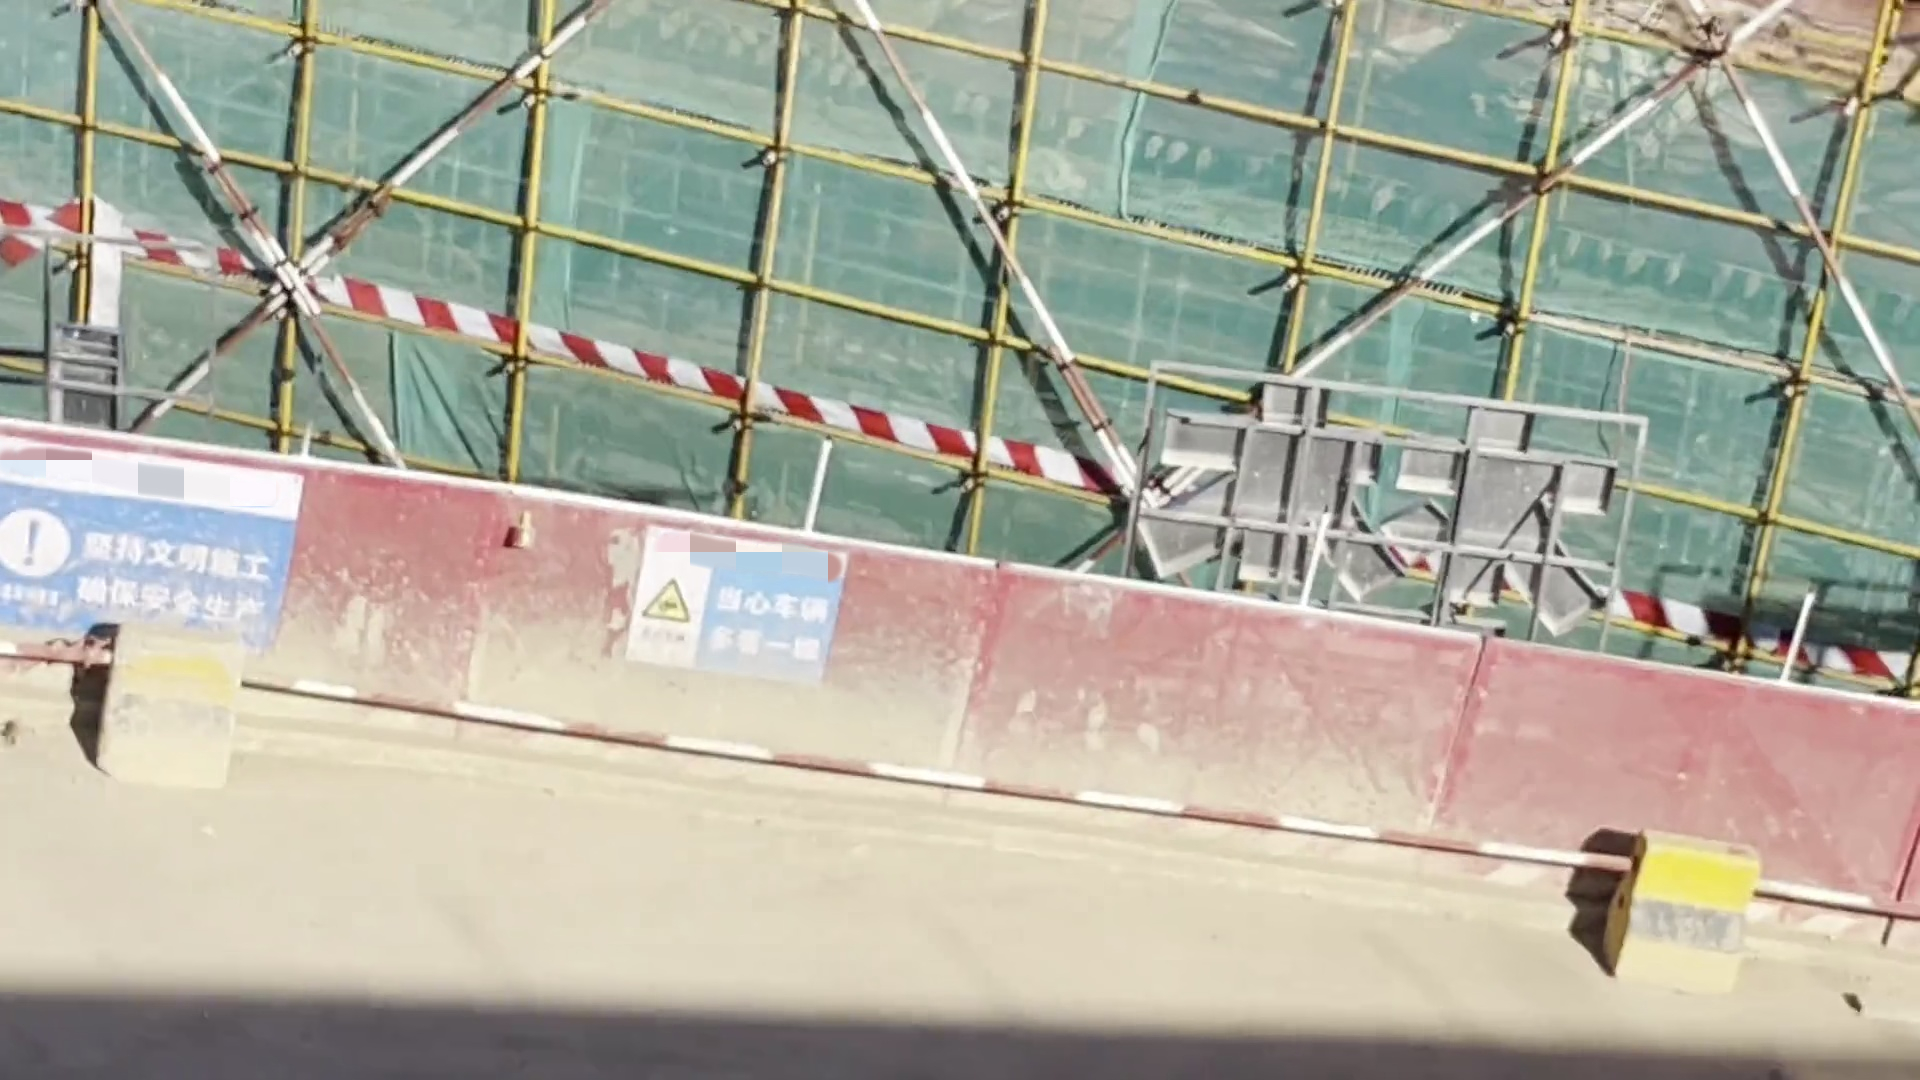fence: (9, 409, 1920, 923)
slogan: (1, 455, 345, 644), (618, 506, 862, 707)
